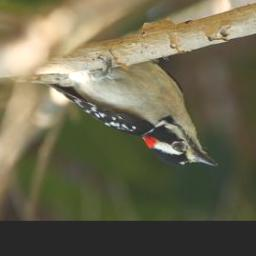Woodpecker: (7, 52, 219, 174)
